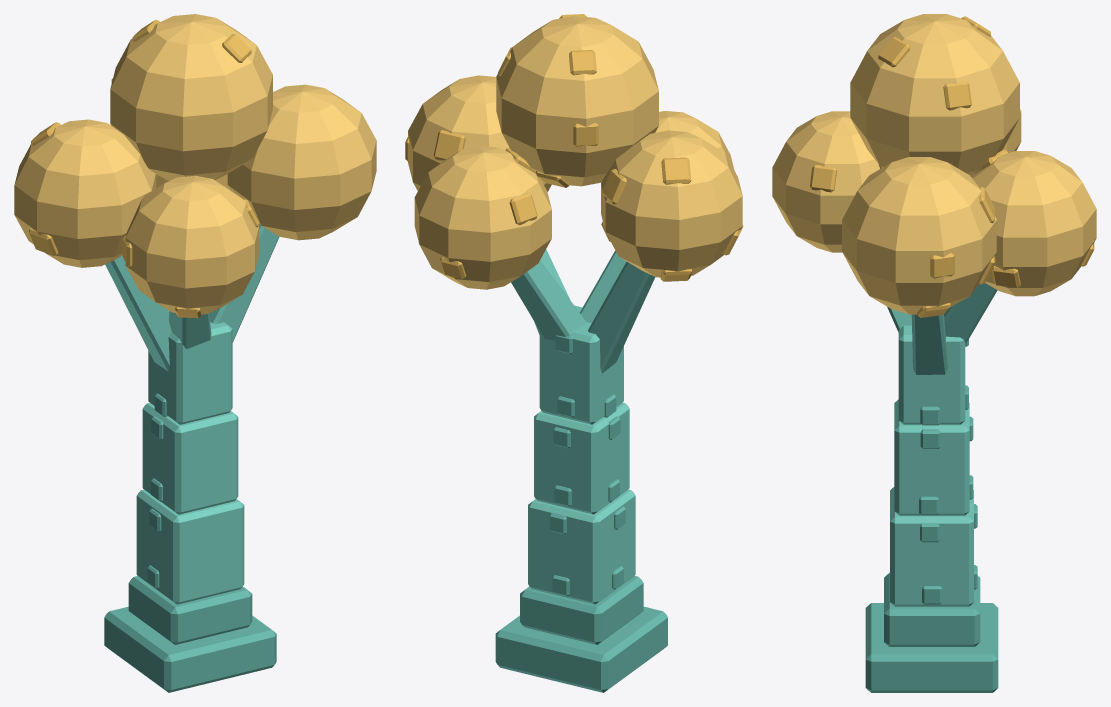
Rendered from NarmekAlienTree.fbx.
The picture shows the model from 3 angles, left to right: view 1: azimuth 30°, elevation 25°; view 2: azimuth 150°, elevation 25°; view 3: azimuth 270°, elevation 25°; orthographic projection.
Parts seen in each view (by area): view 1: NarmekAlienTree.Crown, NarmekAlienTree.Trunk, NarmekAlienTree.Base, NarmekAlienTree.CrownStuds, NarmekAlienTree.TrunkStuds; view 2: NarmekAlienTree.Crown, NarmekAlienTree.Trunk, NarmekAlienTree.Base, NarmekAlienTree.CrownStuds, NarmekAlienTree.TrunkStuds; view 3: NarmekAlienTree.Crown, NarmekAlienTree.Trunk, NarmekAlienTree.Base, NarmekAlienTree.CrownStuds, NarmekAlienTree.TrunkStuds.
Part boxes in pixels (box(x1,y1,x2,y2)): NarmekAlienTree.Crown: box(14, 14, 376, 314); NarmekAlienTree.Trunk: box(105, 224, 279, 604); NarmekAlienTree.Base: box(104, 576, 276, 692); NarmekAlienTree.CrownStuds: box(29, 19, 259, 318); NarmekAlienTree.TrunkStuds: box(147, 393, 167, 588); NarmekAlienTree.Crown: box(408, 16, 742, 289); NarmekAlienTree.Trunk: box(511, 249, 655, 604); NarmekAlienTree.Base: box(495, 576, 667, 692); NarmekAlienTree.CrownStuds: box(405, 14, 743, 281); NarmekAlienTree.TrunkStuds: box(549, 335, 625, 596); NarmekAlienTree.Crown: box(772, 14, 1096, 314); NarmekAlienTree.Trunk: box(887, 283, 997, 606); NarmekAlienTree.Base: box(865, 572, 998, 692); NarmekAlienTree.CrownStuds: box(810, 16, 1094, 317); NarmekAlienTree.TrunkStuds: box(919, 339, 977, 604).
Size of the model in its own units: 6.26 by 11.5 by 5.22.
